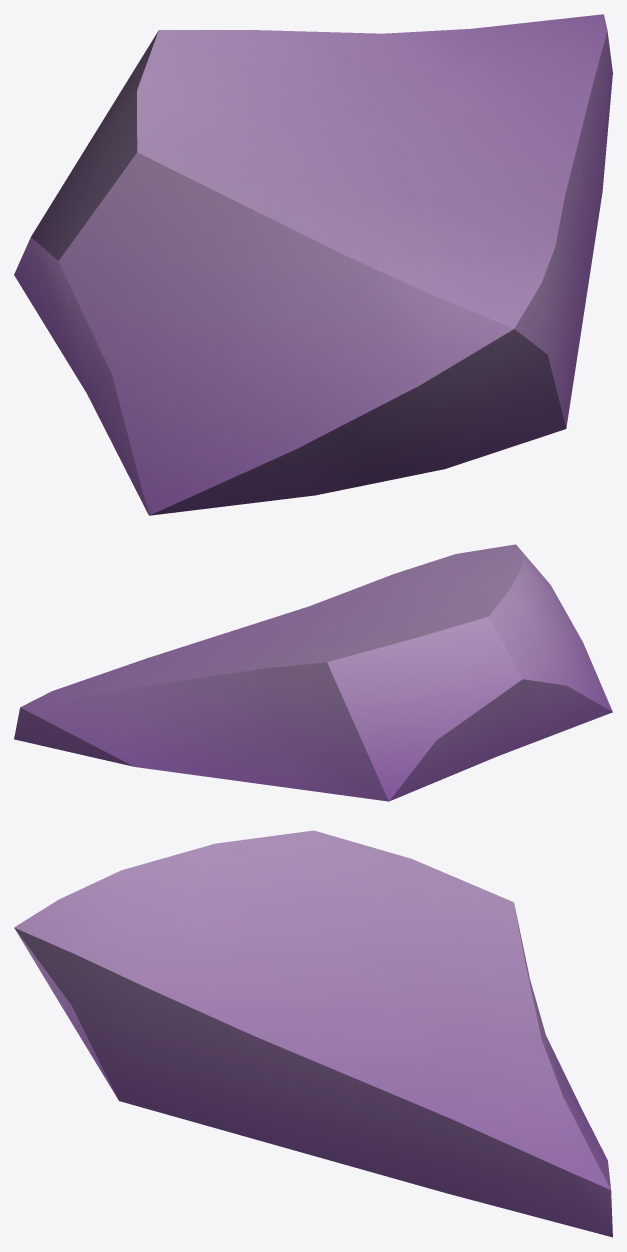
Rendered from Night_Stone_006.FBX.
3 views of the same model, one above another, from view 1: azimuth 30°, elevation 25°; view 2: azimuth 150°, elevation 25°; view 3: azimuth 270°, elevation 25° (orthographic). The views are drawn at different scales.
Parts seen in each view (by area): view 1: Night_Stone_006; view 2: Night_Stone_006; view 3: Night_Stone_006.
Part boxes in pixels (x1,y1,x2,y2): Night_Stone_006: (14, 14, 612, 515); Night_Stone_006: (14, 544, 612, 801); Night_Stone_006: (14, 830, 612, 1237).
Bounding box in the file's own units: 180 × 52.77 × 167.
1 material, 1 textured.
